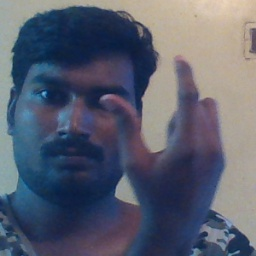U: (106, 49, 227, 205)
